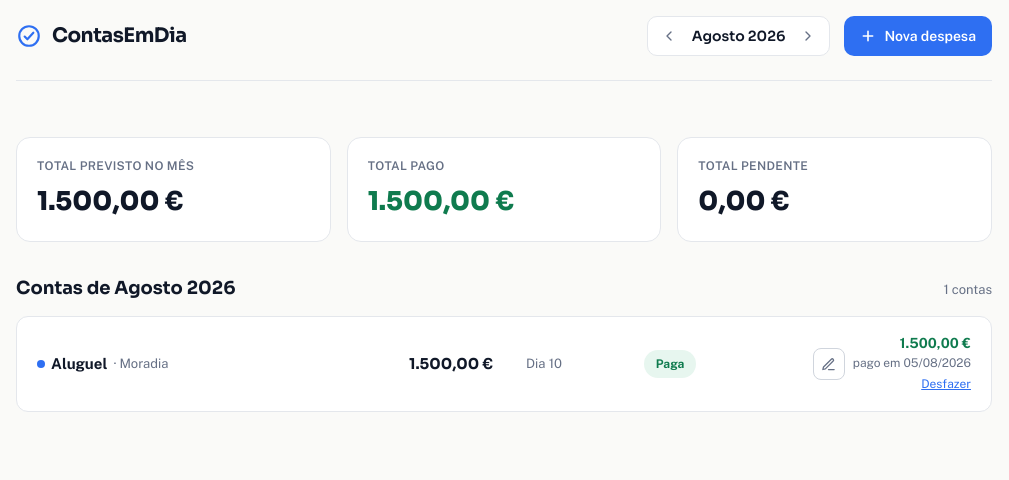
Test: PainelMensalDespesasComponent › undoing a payment reverts the occurrence to not-paid with no paidAmount/paymentDate, recalculating status to Overdue
Click the button with test id "desfazer-btn" at {"x": 946, "y": 384}, box [921,375,971,393]
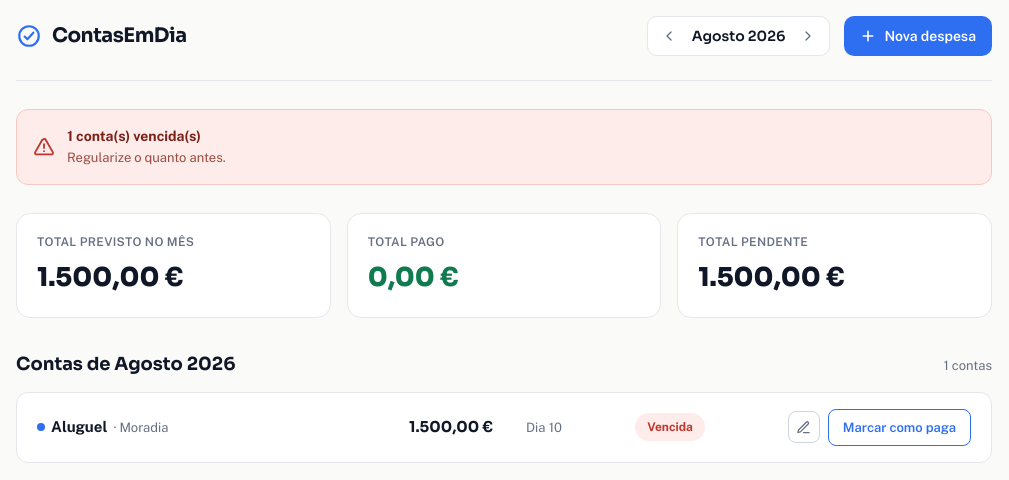
Expected: the button with test id "desfazer-btn" is gone
Expected: the button with test id "marcar-paga-btn" is shown, [828,408,971,446]
Expected: the element with test id "occurrence-row" shows "Vencida", [647,420,693,434]
